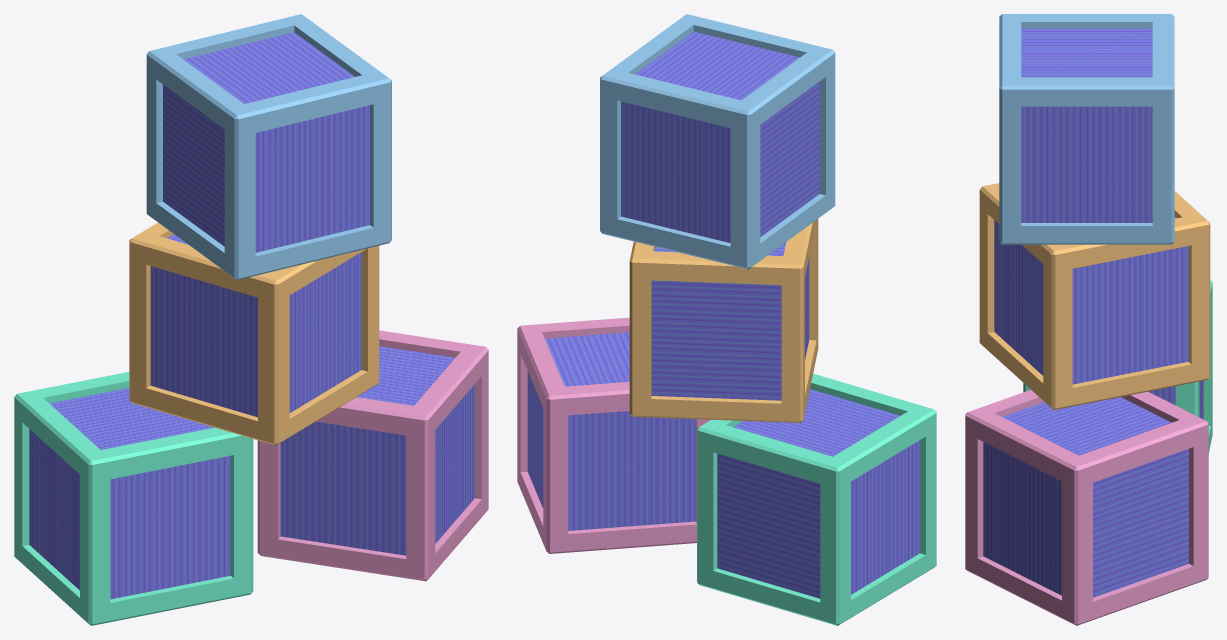
The model's file is WoodBlocks_Group_B_01.FBX.
The picture shows the model from 3 angles, left to right: view 1: azimuth 30°, elevation 25°; view 2: azimuth 150°, elevation 25°; view 3: azimuth 270°, elevation 25°; orthographic projection. The views are drawn at different scales.
Parts seen in each view (by area): view 1: WoodBlocks_Group_B_Rough_01, WoodBlocks_Group_B_01; view 2: WoodBlocks_Group_B_Rough_01, WoodBlocks_Group_B_01; view 3: WoodBlocks_Group_B_Rough_01, WoodBlocks_Group_B_01.
Part boxes in pixels (left/top/right/bottom): WoodBlocks_Group_B_Rough_01: left=29, top=32, right=474, bottom=599; WoodBlocks_Group_B_01: left=14, top=14, right=488, bottom=625; WoodBlocks_Group_B_Rough_01: left=527, top=31, right=919, bottom=598; WoodBlocks_Group_B_01: left=517, top=14, right=936, bottom=625; WoodBlocks_Group_B_Rough_01: left=983, top=28, right=1203, bottom=597; WoodBlocks_Group_B_01: left=965, top=14, right=1212, bottom=625.
Size of the model in its own units: 3.18 by 3.6 by 1.69.
